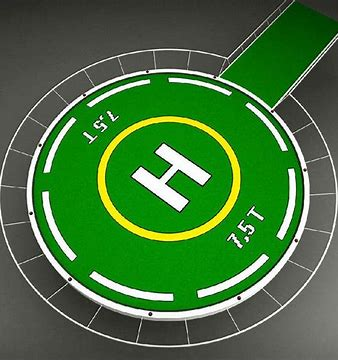H: (130, 143, 213, 214)
